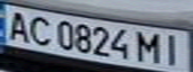0: (51, 18, 75, 52)
2: (90, 24, 112, 58)
4: (109, 26, 133, 61)
8: (72, 21, 93, 55)
A: (3, 8, 33, 42)
C: (24, 13, 57, 46)
I: (157, 32, 187, 66)
M: (133, 29, 166, 64)
